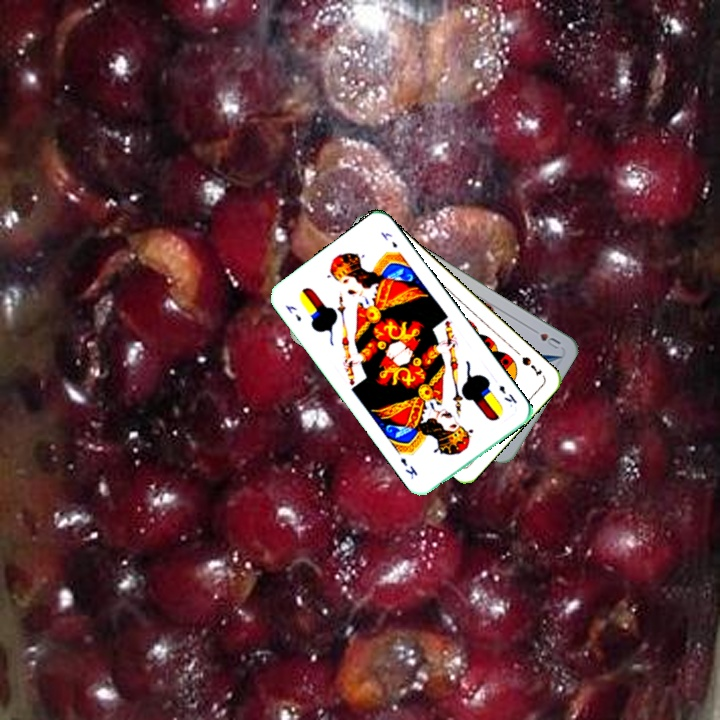EK: (495, 381, 520, 406), (281, 301, 304, 324)
HU: (527, 325, 563, 352)
S7: (518, 352, 545, 379)
